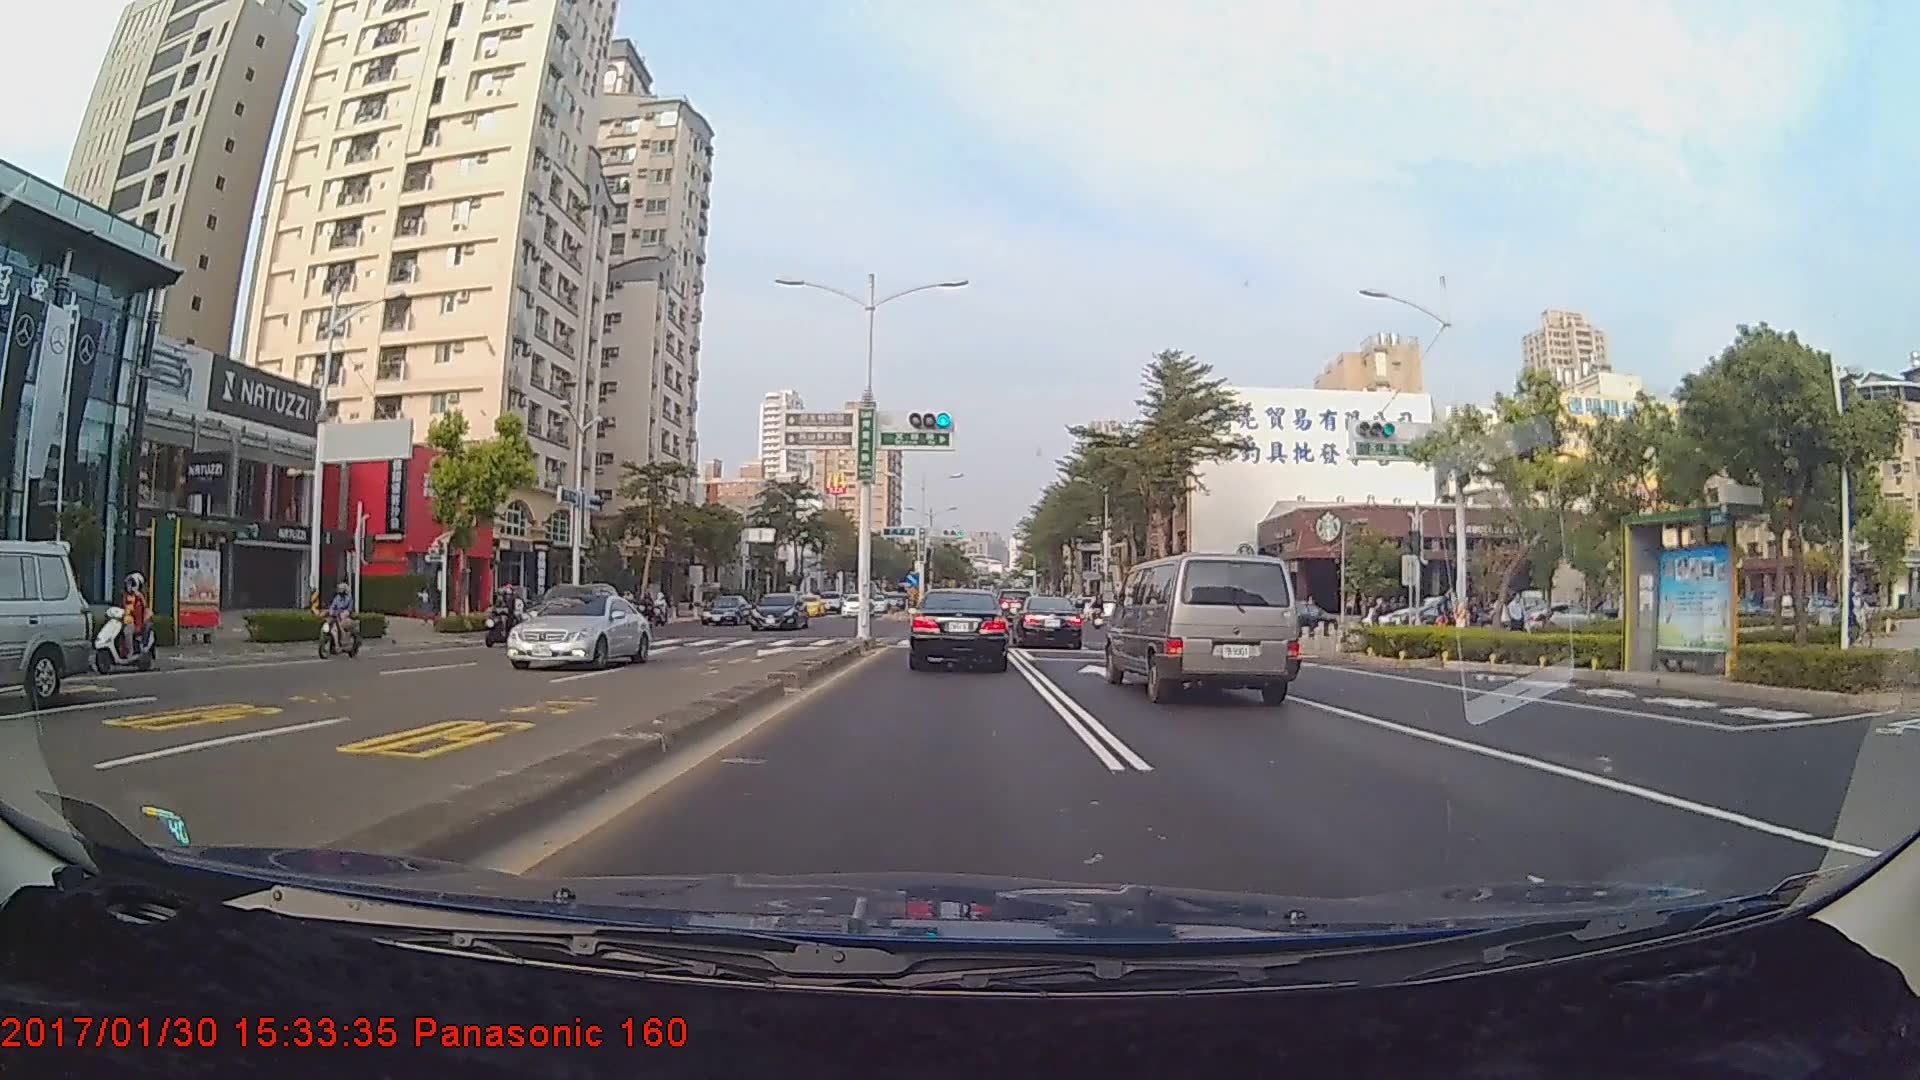pedestrian: (1508, 592, 1528, 651)
rider: (90, 570, 156, 672), (312, 575, 371, 660), (479, 582, 524, 649)
vehicle: (1107, 550, 1304, 704), (0, 535, 99, 708), (504, 589, 650, 670), (910, 585, 1007, 670), (526, 582, 622, 651), (1014, 595, 1083, 648), (748, 591, 810, 632), (700, 593, 751, 623), (839, 592, 874, 614)
